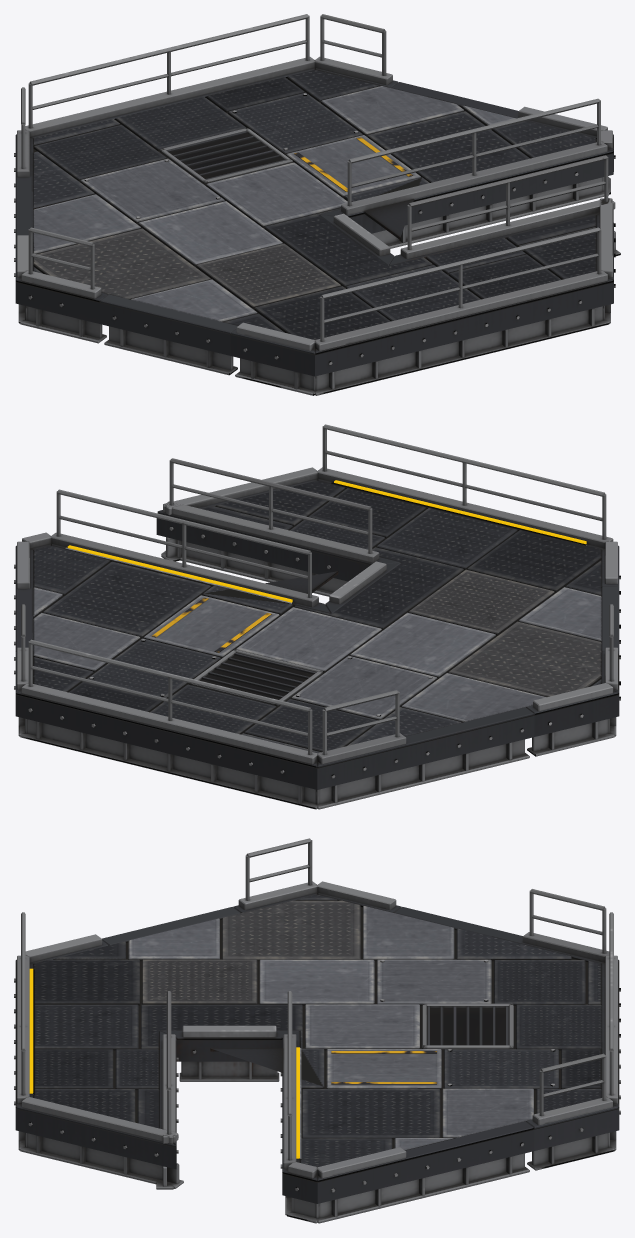
Rendered from nodexeus-set-deck-m6.glb.
3 views of the same model, one above another, from view 1: azimuth 30°, elevation 25°; view 2: azimuth 150°, elevation 25°; view 3: azimuth 270°, elevation 25° (orthographic).
Visible parts, largest first — view 1: set-deck-m6; view 2: set-deck-m6; view 3: set-deck-m6.
Boxes of the visible parts, x1,y1,x2,y2 form: set-deck-m6: (14, 14, 620, 395); set-deck-m6: (14, 424, 620, 809); set-deck-m6: (14, 838, 620, 1223).
Size of the model in its own units: 11.88 by 1.84 by 10.35.
Materials: 1 (1 with a texture image).
